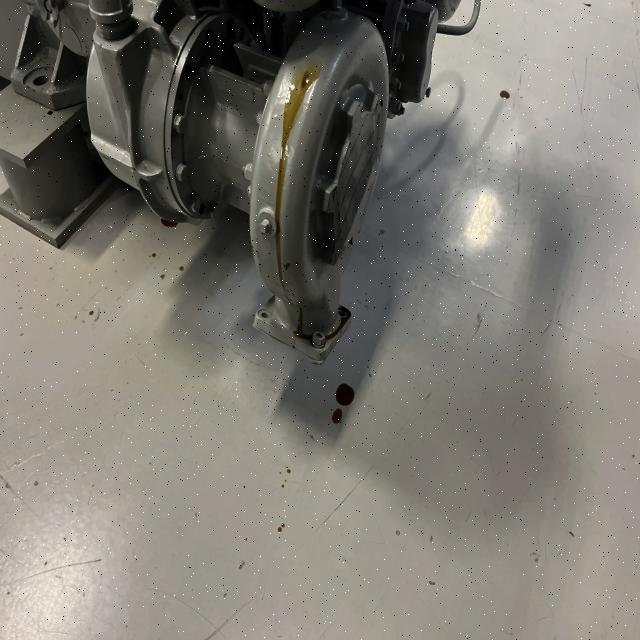Oil Leak: (253, 59, 321, 236), (318, 305, 353, 347), (330, 381, 358, 409), (291, 325, 319, 350), (275, 239, 285, 289), (329, 407, 345, 425), (499, 90, 511, 99), (314, 360, 324, 365)
